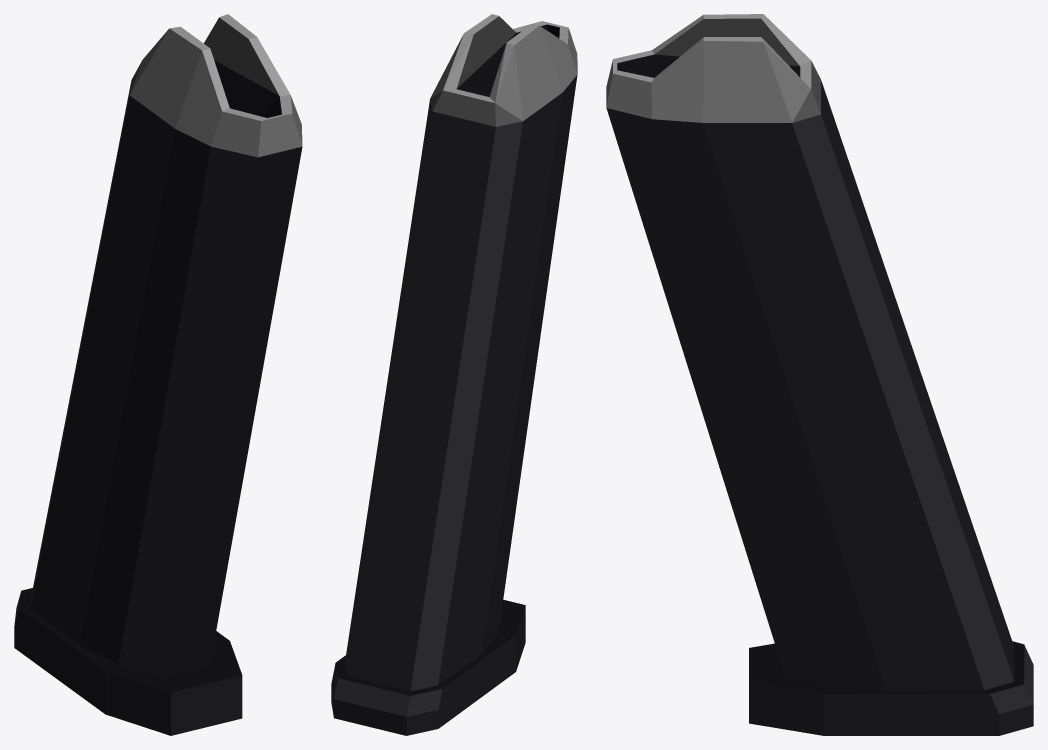
File: MW1_Magazine_9mm_01.fbx
The picture shows the model from 3 angles, left to right: view 1: azimuth 30°, elevation 25°; view 2: azimuth 150°, elevation 25°; view 3: azimuth 270°, elevation 25°; orthographic projection. The views are drawn at different scales.
Parts seen in each view (by area): view 1: Magazine_9mm_01; view 2: Magazine_9mm_01; view 3: Magazine_9mm_01.
Boxes of the visible parts, left/top/right/bottom form: Magazine_9mm_01: left=14, top=14, right=302, bottom=735; Magazine_9mm_01: left=331, top=14, right=577, bottom=735; Magazine_9mm_01: left=606, top=14, right=1033, bottom=735.
Bounding box in the file's own units: 2.59 × 13.88 × 7.92.
